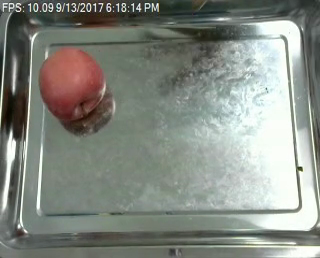Apple: (42, 48, 102, 122)
